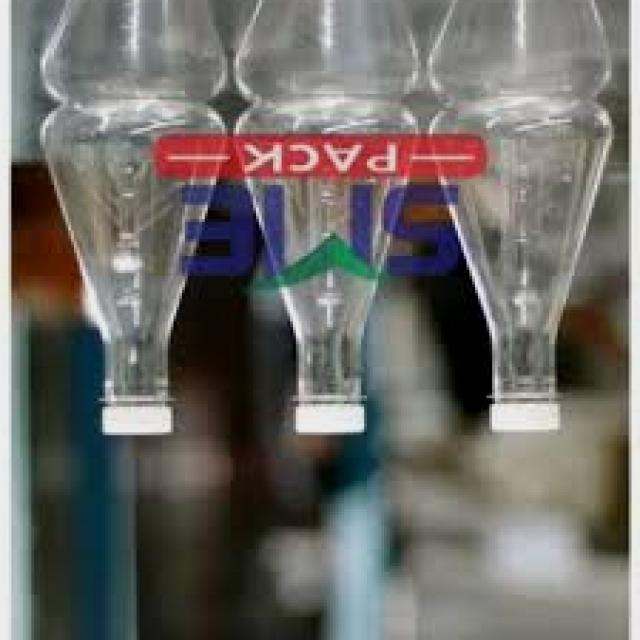bottle: (39, 81, 225, 441), (426, 91, 611, 441), (233, 100, 408, 438)
